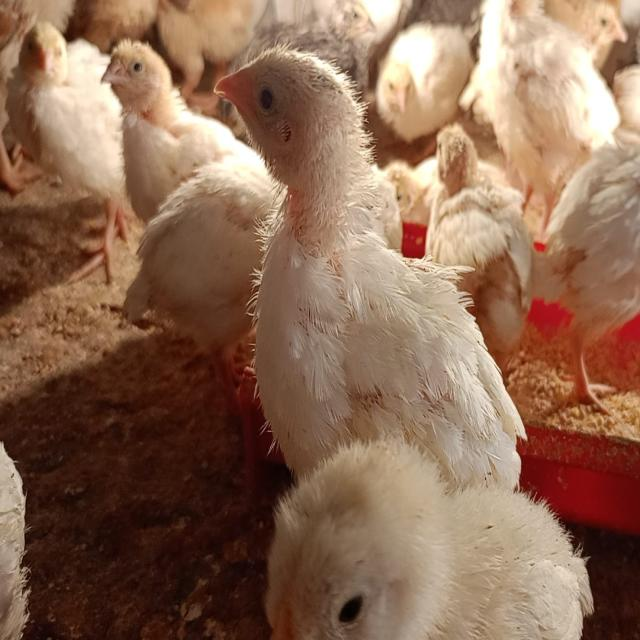Unhealthy: (202, 33, 528, 485)
